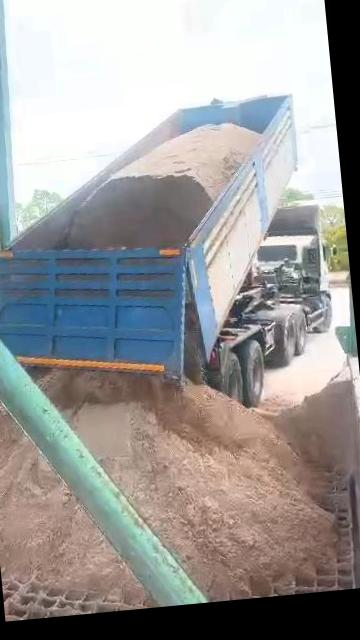sand: (42, 289, 335, 598), (0, 409, 150, 604), (56, 123, 260, 248), (253, 377, 358, 473)
